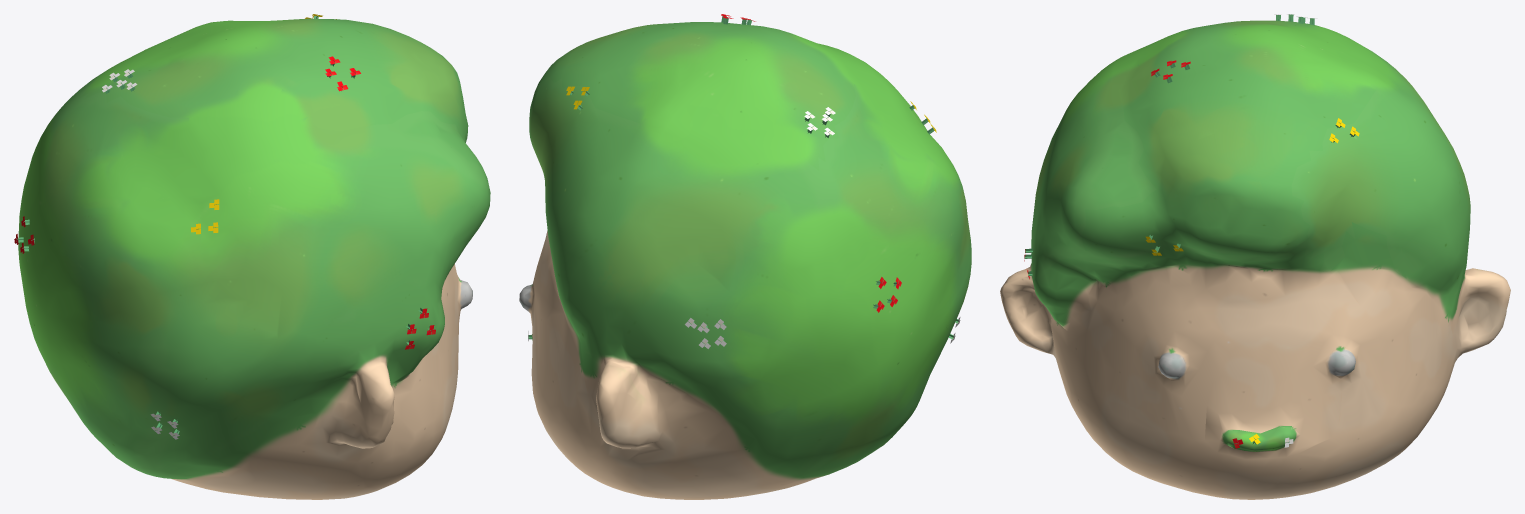
Rendered from planetEvan.glb.
The picture shows the model from 3 angles, left to right: view 1: azimuth 30°, elevation 25°; view 2: azimuth 150°, elevation 25°; view 3: azimuth 270°, elevation 25°; orthographic projection. The views are drawn at different scales.
Visible parts, largest first — view 1: yellow; view 2: yellow; view 3: yellow.
Boxes of the visible parts, left/top/right/bottom form: yellow: left=14, top=14, right=490, bottom=499; yellow: left=519, top=14, right=971, bottom=499; yellow: left=1000, top=14, right=1510, bottom=499.
Bounding box in the file's own units: 2.03 × 2.14 × 2.36.
2 materials, 1 textured.
